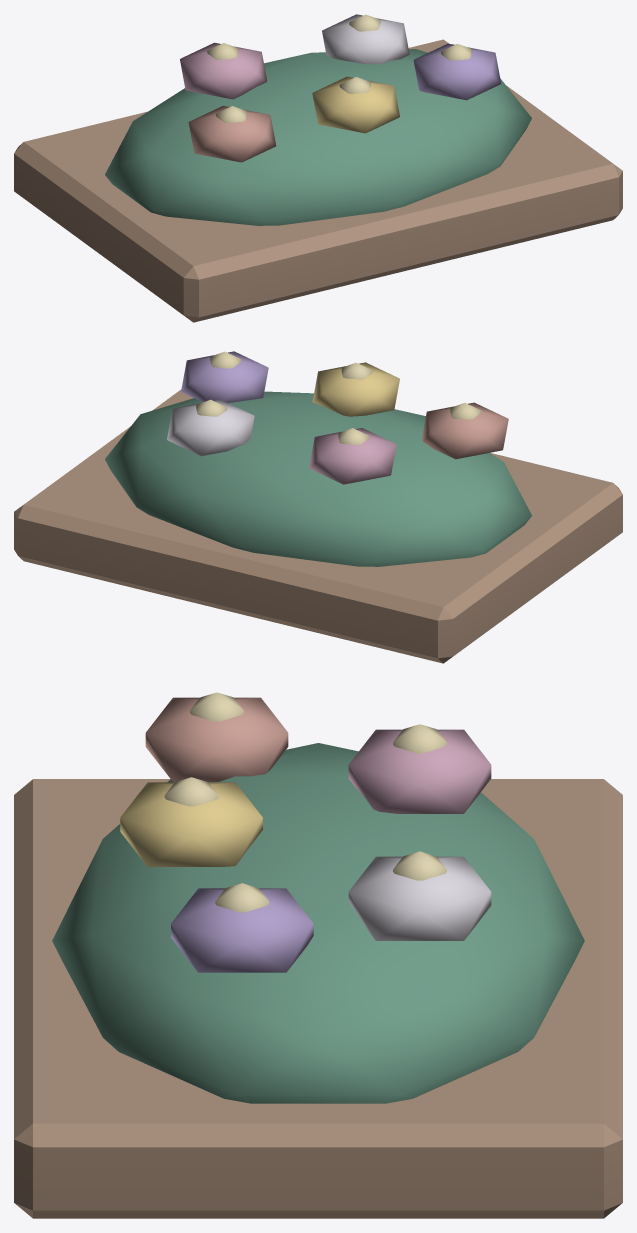
The model's file is flower-bed.glb.
The picture shows the model from 3 angles, top to bottom: view 1: azimuth 30°, elevation 25°; view 2: azimuth 150°, elevation 25°; view 3: azimuth 270°, elevation 25°; orthographic projection. The views are drawn at different scales.
Parts seen in each view (by area): view 1: flower-bed; view 2: flower-bed; view 3: flower-bed.
Boxes of the visible parts, x1,y1,x2,y2 form: flower-bed: [14, 14, 622, 322]; flower-bed: [14, 351, 622, 663]; flower-bed: [14, 692, 622, 1218].
Size of the model in its own units: 0.7 by 0.25 by 0.5.
